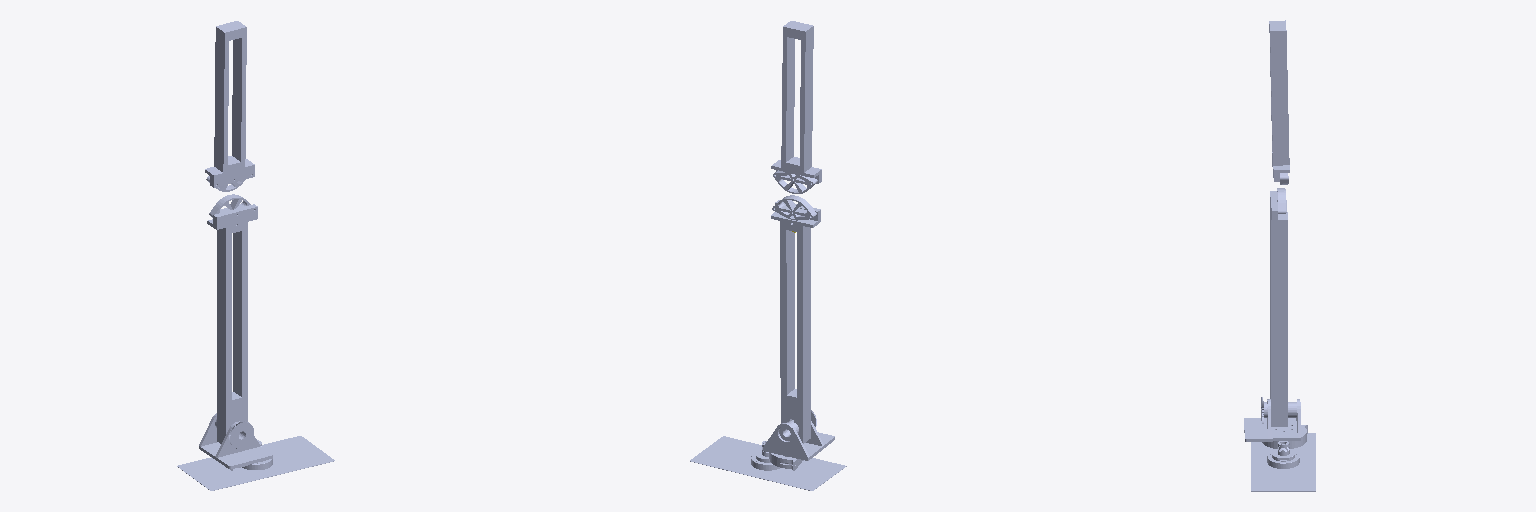
The robot description file, URDF, robot "robotic_arm":
<?xml version="1.0" encoding="utf-8"?>

<robot
  name="robotic_arm">
  <!-- <link name="body"/>

   <!-JOINT b/W WORLD - BASE ->
  <joint name="arm_base_link_fixed" type="fixed">
    <parent link="body"/>
    <child link="arm_base_link"/>
    <origin xyz="0 0 0" rpy="0 0 0"/>
  </joint>
 -->
  <link
    name="arm_base_link">
    <inertial>
      <origin xyz="0 0 0" rpy="0 0 0"/>
      <mass value="0.001"/>
      <inertia
        ixx="1e-6" ixy="0" ixz="0"
        iyy="1e-6" iyz="0"
        izz="1e-6"/>
    </inertial>
    <visual>
      <origin
        xyz="0 0 0"
        rpy="-1.5708 0 0" />
      <geometry>
        <mesh
          filename="package://robotic_arm/meshes/base_link.STL" />
      </geometry>
      <material
        name="">
        <color
          rgba="0.79216 0.81961 0.93333 1" />
      </material>
    </visual>

  <!--   <collision>
      <origin
        xyz="0 0 0"
        rpy="0 0 0" />
      <geometry>
        <box size=  " 0.5 0.2 0.001" />
      </geometry>
      <material
        name= " collision material">
        <color
          rgba = " 1.0 0.5 0.0 0.6">
      </color>
    </material>
    </collision> -->
  </link>
  <link
    name="capstan_drive">
    <inertial>
      <origin
        xyz="-0.00010871 6.7353E-06 -0.017028"
        rpy="0 0 0" />
      <mass
        value="0.25255" />
      <inertia
        ixx="0.0001509"
        ixy="-2.9002E-09"
        ixz="4.457E-07"
        iyy="0.00015005"
        iyz="-5.7669E-09"
        izz="0.00025311" />
    </inertial>
    <visual>
      <origin
        xyz="0 0 -0.049"
        rpy="1.5708 0 0" />
      <geometry>
        <mesh
          filename="package://robotic_arm/meshes/capstan_drive.STL" />
      </geometry>
      <material
        name="">
        <color
          rgba="0.79216 0.81961 0.93333 1" />
      </material>
    </visual>
   <!--  <collision>
      <origin
        xyz="0 0 -0.05"
        rpy="0 0 0" />
      <geometry>
        <mesh
          filename="package://robotic_arm/gazebo_models/collision/capstan_collision/capstan_collision.stl" />
      </geometry>
    </collision> -->
  </link>

  <!-- JOINT B/W CAPSTAN - BASE -->
  <joint
    name="base_capstan"
    type="fixed">
    <origin
      xyz="0 0 0.0395"
      rpy="0 0 0" />
    <parent
      link="arm_base_link" />
    <child
      link="capstan_drive" />
    <axis
      xyz="0 0 0" />
  </joint>


<!-- ARM BASE  -->
<link
    name="arm_base">
    <inertial>
      <origin
        xyz="-0.012584 -0.0065009 0.032254"
        rpy="0 0 0" />
      <mass
        value="0.70947" />
      <inertia
        ixx="0.0011099"
        ixy="-1.8074E-07"
        ixz="-0.00010562"
        iyy="0.0016516"
        iyz="1.4831E-07"
        izz="0.0023602" />
    </inertial>
    <visual>
      <origin
        xyz="0 -0.09 -0.06"
        rpy="1.5708 0 -1.5708" />
      <geometry>
        <mesh
          filename="package://robotic_arm/meshes/arm_base.STL" />
      </geometry>
      <material
        name="">
        <color
          rgba="0.79216 0.81961 0.93333 1" />
      </material>
    </visual>
  <!--   <collision>
      <origin
        xyz="0 0 0"
        rpy="0 0 -1.5708" />
      <geometry>
        <mesh
         filename="package://robotic_arm/gazebo_models/collision/arm_base_collision.stl" />
      </geometry>
    </collision> -->
  </link>

  <!-- Capstan to arm Base -->
  <joint
    name="capstan_arm"
    type="revolute">
    <origin
      xyz="-0.088248 0.00055748 0.008"
      rpy="0 0 1.5894" />
    <parent
      link="capstan_drive" />
    <child
      link="arm_base" />
    <axis
      xyz="0 0 -1" />
    <limit
      lower="-1.4"
      upper="1.4"
      effort="36"
      velocity="0.2" /> 
    </joint>

<!-- arm base to link 1 rotation joint -->
 <joint
    name="base_arm_rot"
    type="revolute">
    <origin
      xyz="-0.0072956 0 0.1"
      rpy="0 0.00035591 -1.5708" />
    <parent
      link="arm_base" />
    <child
      link="arm_link_1" />
    <axis
      xyz="0 -1 0" />
    <limit
      lower="-0.5"
      upper="1.35"
      effort="25"
      velocity="0.1" />
  </joint>


<!-- Rotation Helper for joint 1 -->
  <link name="arm_link_1_helper">
  <inertial>
    <origin xyz="0 0 0" rpy="0 0 0"/>
    <mass value="0.001"/>  
  <inertia ixx="1e-6" ixy="0" ixz="0" iyy="1e-6" iyz="0" izz="1e-6"/>
  </inertial>
  <visual>
    <origin xyz="0 0 0" rpy="0 0 0"/>
    <geometry>
      <box size="0.01 0.01 0.01"/>  
   </geometry>
    <material name="black"/>
  </visual>
</link> 

<!-- ARM LINK - 1 -->
   <link
    name="arm_link_1">
    <inertial>
      <origin
        xyz="1.3878E-17 -0.00051908 0.31703"
        rpy="0 0 0" />
      <mass
        value="1.9995" />
      <inertia
        ixx="0.012287"
        ixy="-6.7763E-20"
        ixz="-2.1344E-18"
        iyy="0.012814"
        iyz="3.6575E-05"
        izz="0.0015327" />
    </inertial>
    <visual>
      <origin
        xyz="0.09 0 -0.16"
        rpy="1.5708 0 0" />
      <geometry>
        <mesh
          filename="package://robotic_arm/meshes/arm_link_1.STL" />
      </geometry>
      <material
        name="">
        <color
          rgba="0.79216 0.81961 0.93333 1" />
      </material>
    </visual>
   <!--  <collision>
      <origin
        xyz="0 0 0"
        rpy="0 0 0" />
      <geometry>
        <mesh
          filename="package://robotic_arm/gazebo_models/collision/arm_link_1_collision.stl" />
      </geometry>
    </collision> -->
  </link>


<!-- Arm link 1 to 2 helper -->
  <joint
    name="arm_elbow_roll"
    type="revolute">
    <origin
      xyz="4.1173E-05 0.005238 0.62096"
      rpy="0.0068467 -0.00071181 0" />
    <parent
      link="arm_link_1" />
    <child
      link="arm_link_1_helper" />
    <axis
      xyz="0 1 0" />
    <limit
      lower="-0.5"
      upper="0.5"
      effort="12"
      velocity="0.15" />
  </joint>


  <!-- ARM LINK 2 -->
<link
    name="arm_link_2">
    <inertial>
      <origin
        xyz="-1.3878E-17 -0.0079993 0.24635"
        rpy="0 0 0" />
      <mass
        value="1.0306" />
      <inertia
        ixx="0.0063388"
        ixy="1.0842E-19"
        ixz="-1.5675E-19"
        iyy="0.0071309"
        iyz="-6.364E-05"
        izz="0.0011923" />
    </inertial>
    <visual>
      <origin
        xyz="0.084 0 -0.77"
        rpy="1.5708 0 0" />
      <geometry>
        <mesh
          filename="package://robotic_arm/meshes/arm_link_2.STL" />
      </geometry>
      <material
        name="">
        <color
          rgba="0.79216 0.81961 0.93333 1" />
      </material>
    </visual>
    <!-- 
    <collision>
      <origin
        xyz="0 0 0"
        rpy="0 0 0" />
      <geometry>
        <mesh
          filename="package://robotic_arm/gazebo_models/collision/arm_link_2_collision.stl" />
      </geometry>
    </collision> -->
     </link>


    <!-- Arm elbow joint helper to arm link 2 --> 
  <joint
    name="arm_elbow"
    type="revolute">
    <origin
      xyz="4.1173E-05 0.005238 0.125"
      rpy="0.0068467 -0.00071181 0" />
    <parent
      link="arm_link_1_helper" />
    <child
      link="arm_link_2" />
    <axis
      xyz="0 1 0" />
    <limit
      lower="-1.4"  
      upper="1.4"
      effort="12"
      velocity="0.15" />
  </joint> 


<!-- Transmission tags for gazebo -->
<!-- For capstan Joint -->
<transmission name="capstan_arm_trans">
  <type>transmission_interface/SimpleTransmission</type>
  <joint name="capstan_arm">
    <hardwareInterface>hardware_interface/EffortJointInterface</hardwareInterface>
  </joint>
  <actuator name="capstan_motor">
    <hardwareInterface>hardware_interface/EffortJointInterface</hardwareInterface>
    <mechanicalReduction>1</mechanicalReduction>
  </actuator>
</transmission>

<!-- Transmission for Joint 1 -->
<transmission name="base_arm_rot_trans">
  <type>transmission_interface/SimpleTransmission</type>
  <joint name="base_arm_rot">
    <hardwareInterface>hardware_interface/EffortJointInterface</hardwareInterface>
  </joint>
  <actuator name="base_arm_rot_motor">
    <hardwareInterface>hardware_interface/EffortJointInterface</hardwareInterface>
    <mechanicalReduction>1</mechanicalReduction>
  </actuator>
</transmission>

<!-- Transmission for Joint 2 -->
<transmission name="arm_elbow_trans">
  <type>transmission_interface/SimpleTransmission</type>
  <joint name="arm_elbow">
    <hardwareInterface>hardware_interface/EffortJointInterface</hardwareInterface>
  </joint>
  <actuator name="arm_elbow_motor">
    <hardwareInterface>hardware_interface/EffortJointInterface</hardwareInterface>
    <mechanicalReduction>1</mechanicalReduction>
  </actuator>
</transmission>

<!-- Transmission for Joint 3 -->
<transmission name="arm_elbow_roll_trans">
  <type>transmission_interface/SimpleTransmission</type>
  <joint name="arm_elbow_roll">
    <hardwareInterface>hardware_interface/EffortJointInterface</hardwareInterface>
  </joint>
  <actuator name="arm_elbow_roll_motor">
    <hardwareInterface>hardware_interface/EffortJointInterface</hardwareInterface>
    <mechanicalReduction>1</mechanicalReduction>
  </actuator>
</transmission>

  <!-- Gazebo control recq -->
  <!-- Gazebo will go black if no controller is defined and uncommented -->
  <gazebo>
  <plugin name="gazebo_ros_control" filename="libgazebo_ros_control.so">
    <robotNamespace>/Adesh_Arm</robotNamespace>
    <robotParam>/robot_description</robotParam>
  </plugin>
</gazebo>
</robot>

--- Facts derived from the render (not from the file) ---
The picture shows the robot from 3 angles, left to right: view 1: azimuth 30°, elevation 25°; view 2: azimuth 150°, elevation 25°; view 3: azimuth 270°, elevation 25°; orthographic projection.
Model robotic_arm with 6 links and 5 joints (4 revolute, 1 fixed), rooted at arm_base_link, posed all joints at 0.
Visible links, largest first — view 1: arm_link_1, arm_link_2, arm_base_link, arm_base; view 2: arm_link_1, arm_link_2, arm_base_link, arm_base; view 3: arm_link_1, arm_link_2, arm_base_link, arm_base, capstan_drive.
Link boxes in pixels (x1,y1,x2,y2): arm_link_1: [207, 194, 257, 448]; arm_link_2: [205, 21, 254, 191]; arm_base_link: [177, 436, 334, 490]; arm_base: [199, 413, 272, 470]; arm_link_1: [771, 195, 820, 443]; arm_link_2: [771, 21, 821, 193]; arm_base_link: [690, 436, 846, 490]; arm_base: [763, 421, 834, 470]; arm_link_1: [1261, 188, 1296, 426]; arm_link_2: [1269, 20, 1289, 184]; arm_base_link: [1251, 433, 1315, 491]; arm_base: [1244, 399, 1307, 448]; capstan_drive: [1267, 441, 1299, 468].
Size in the robot's own frame: 0.415 by 0.2214 by 1.43 metres.
5 mesh visuals loaded from 5 distinct referenced files (5 binary STL).
